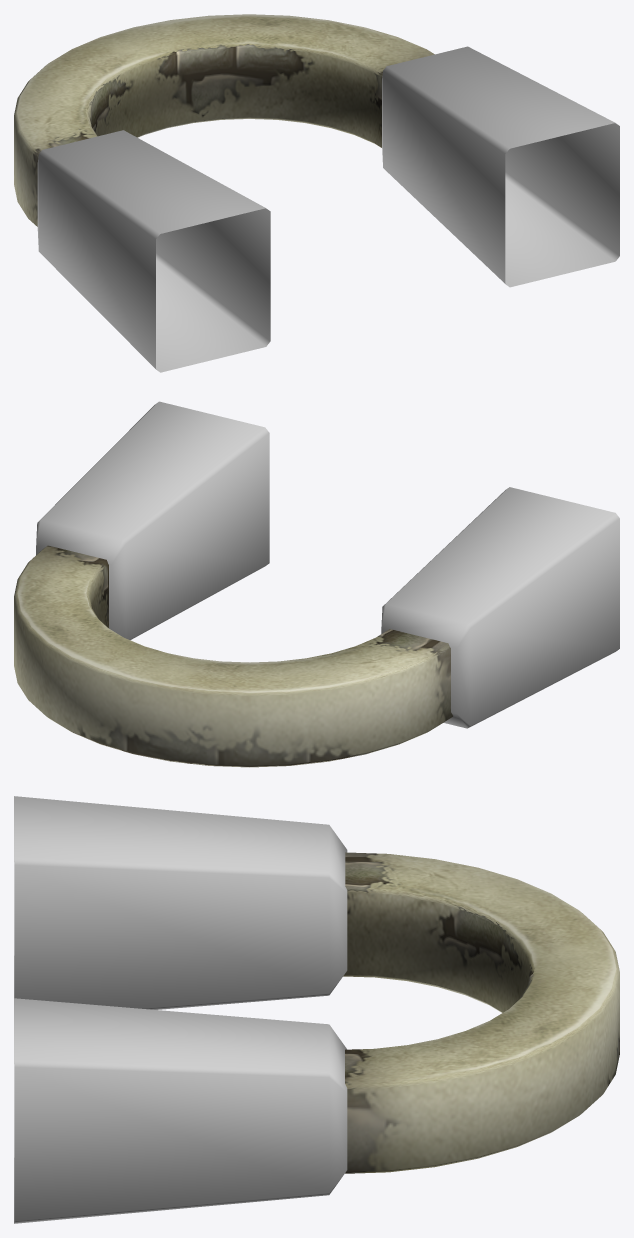
The model's file is Bandito_wall_entrance.FBX.
The picture shows the model from 3 angles, top to bottom: view 1: azimuth 30°, elevation 25°; view 2: azimuth 150°, elevation 25°; view 3: azimuth 270°, elevation 25°; orthographic projection. The views are drawn at different scales.
Visible parts, largest first — view 1: Bandito_wall_003, Bandito_wall_002, Bandito_wall_entrance; view 2: Bandito_wall_entrance, Bandito_wall_002, Bandito_wall_003; view 3: Bandito_wall_entrance, Bandito_wall_003, Bandito_wall_002.
Part boxes in pixels (x1,y1,x2,y2): Bandito_wall_003: (382, 46, 619, 287); Bandito_wall_002: (37, 130, 270, 372); Bandito_wall_entrance: (14, 14, 434, 226); Bandito_wall_entrance: (14, 545, 452, 767); Bandito_wall_002: (381, 487, 619, 728); Bandito_wall_003: (36, 401, 269, 640); Bandito_wall_entrance: (343, 852, 619, 1173); Bandito_wall_003: (14, 998, 347, 1223); Bandito_wall_002: (14, 796, 347, 1009).
Bounding box in the file's own units: 7.24 × 2.07 × 6.91.
